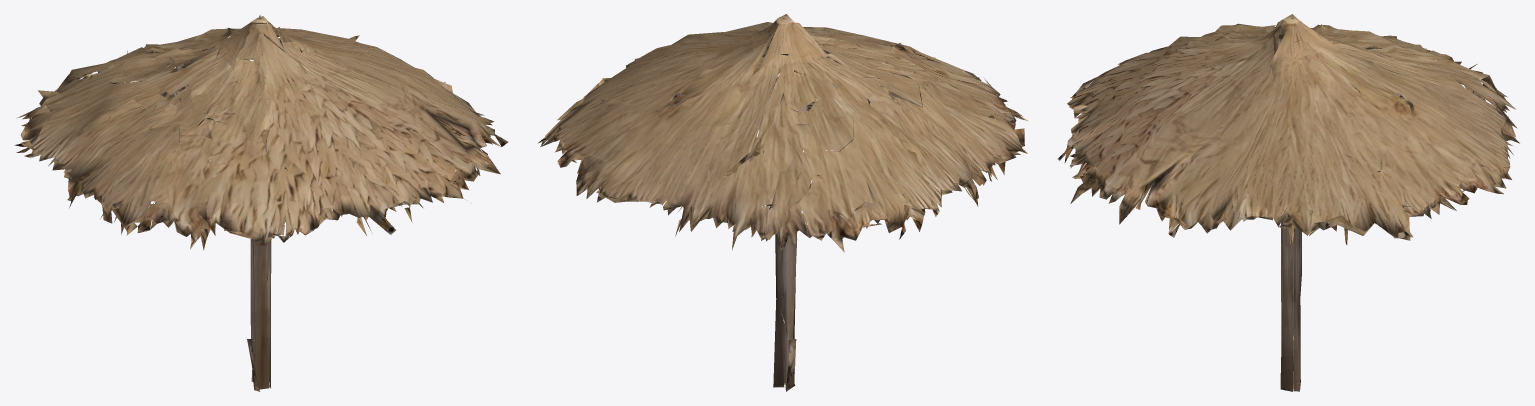
Rendered from beach_umbrella.glb.
3 renders of one model, left to right at view 1: azimuth 30°, elevation 25°; view 2: azimuth 150°, elevation 25°; view 3: azimuth 270°, elevation 25°, orthographic.
Visible parts, largest first — view 1: beach_umbrella; view 2: beach_umbrella; view 3: beach_umbrella.
Boxes of the visible parts, box(x1,y1,x2,y2) form: beach_umbrella: box(14, 14, 508, 391); beach_umbrella: box(537, 14, 1027, 391); beach_umbrella: box(1057, 14, 1519, 391).
Bounding box in the file's own units: 2.63 × 2.4 × 2.7.
Materials: 1 (1 with a texture image).
